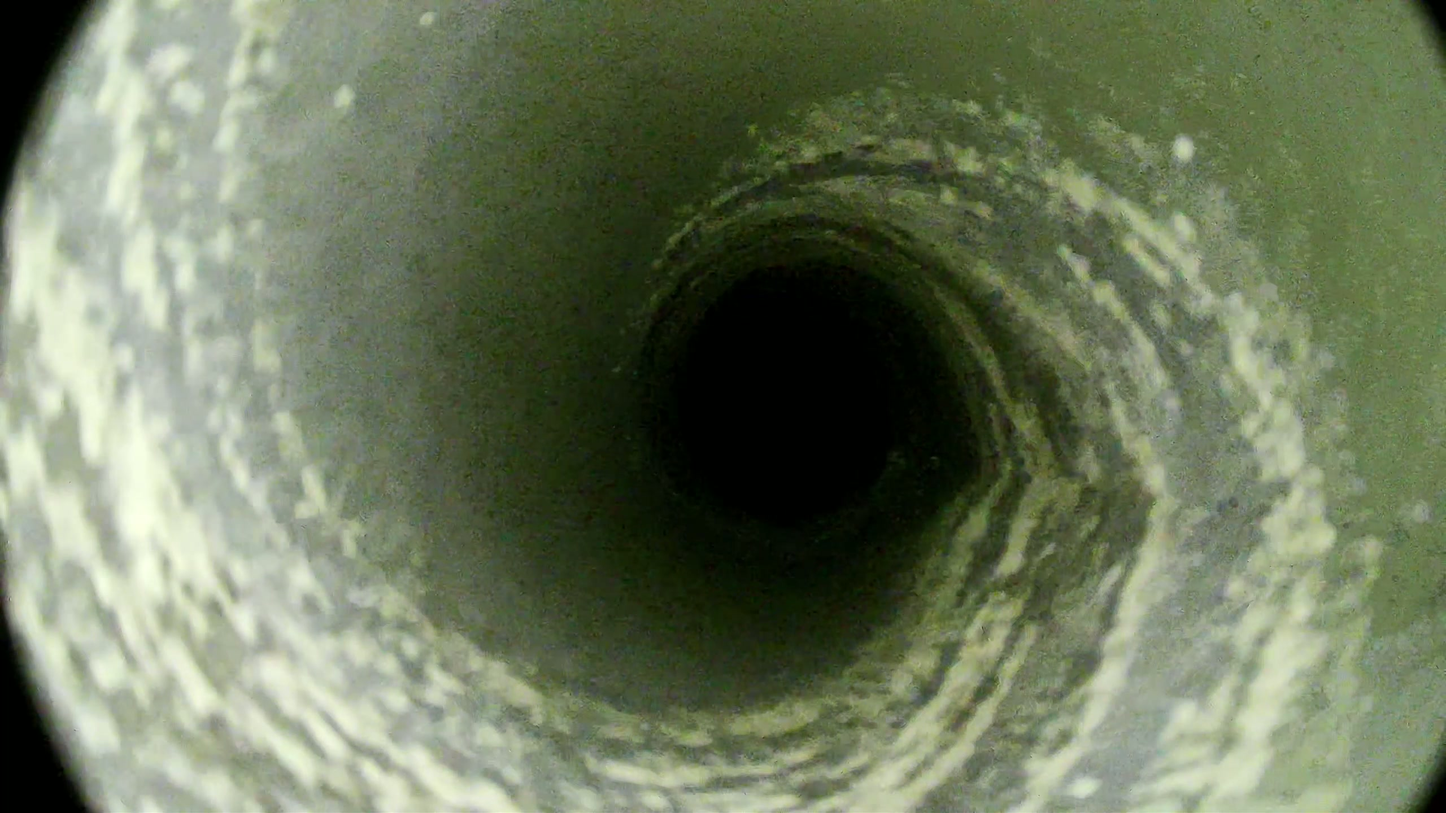hole: (683, 302, 891, 519)
